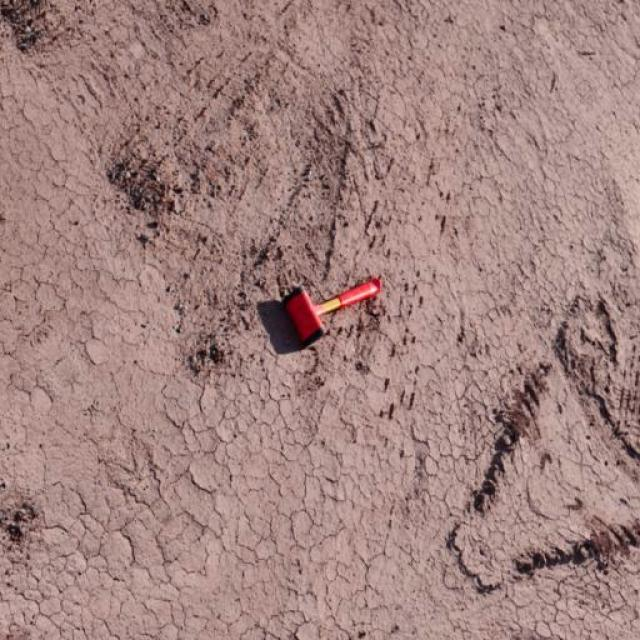mallet: (280, 274, 381, 345)
